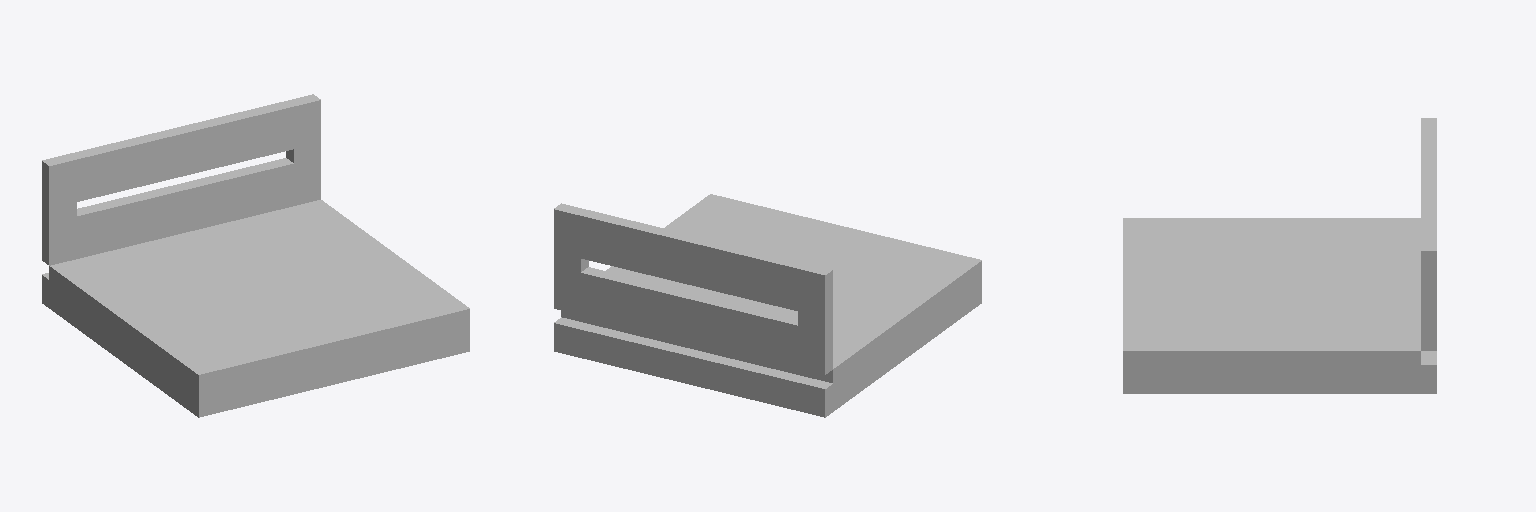
Rendered from room_1110.obj.
The picture shows the model from 3 angles: view 1: azimuth 30°, elevation 25°; view 2: azimuth 150°, elevation 25°; view 3: azimuth 270°, elevation 25°; orthographic projection.
Visible parts, largest first — view 1: room_1110; view 2: room_1110; view 3: room_1110.
Part boxes in pixels (bbox=[...]): room_1110: bbox=[42, 94, 469, 417]; room_1110: bbox=[554, 194, 981, 417]; room_1110: bbox=[1123, 118, 1436, 393].
Size of the model in its own units: 20 by 10 by 20.